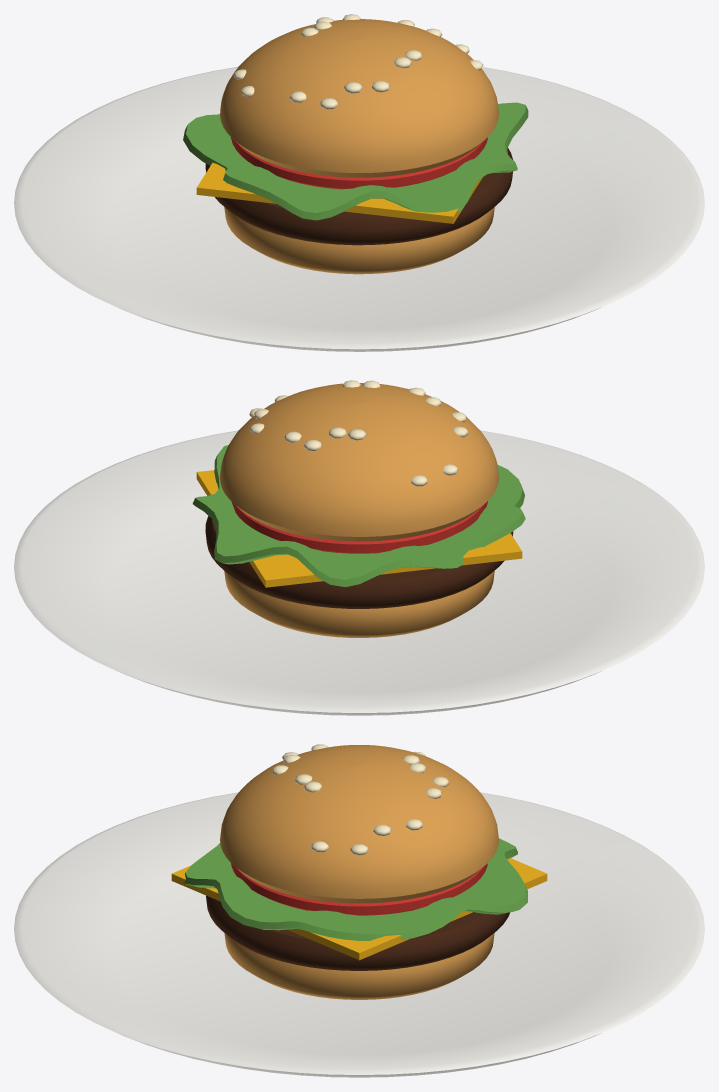
Rendered from hamburguesa.glb.
The picture shows the model from 3 angles, top to bottom: view 1: azimuth 30°, elevation 25°; view 2: azimuth 150°, elevation 25°; view 3: azimuth 270°, elevation 25°; orthographic projection.
Parts seen in each view (by area): view 1: hamburguesa; view 2: hamburguesa; view 3: hamburguesa.
Boxes of the visible parts, x1,y1,x2,y2 form: hamburguesa: (14, 14, 704, 351); hamburguesa: (14, 380, 704, 715); hamburguesa: (14, 744, 704, 1077).
Size of the model in its own units: 0.26 by 0.0855 by 0.26.
